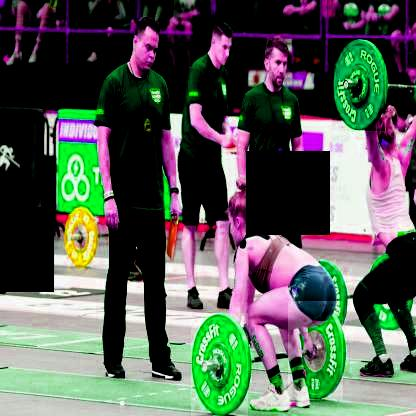barbell: (192, 314, 249, 416), (289, 302, 343, 400), (333, 39, 386, 131)
